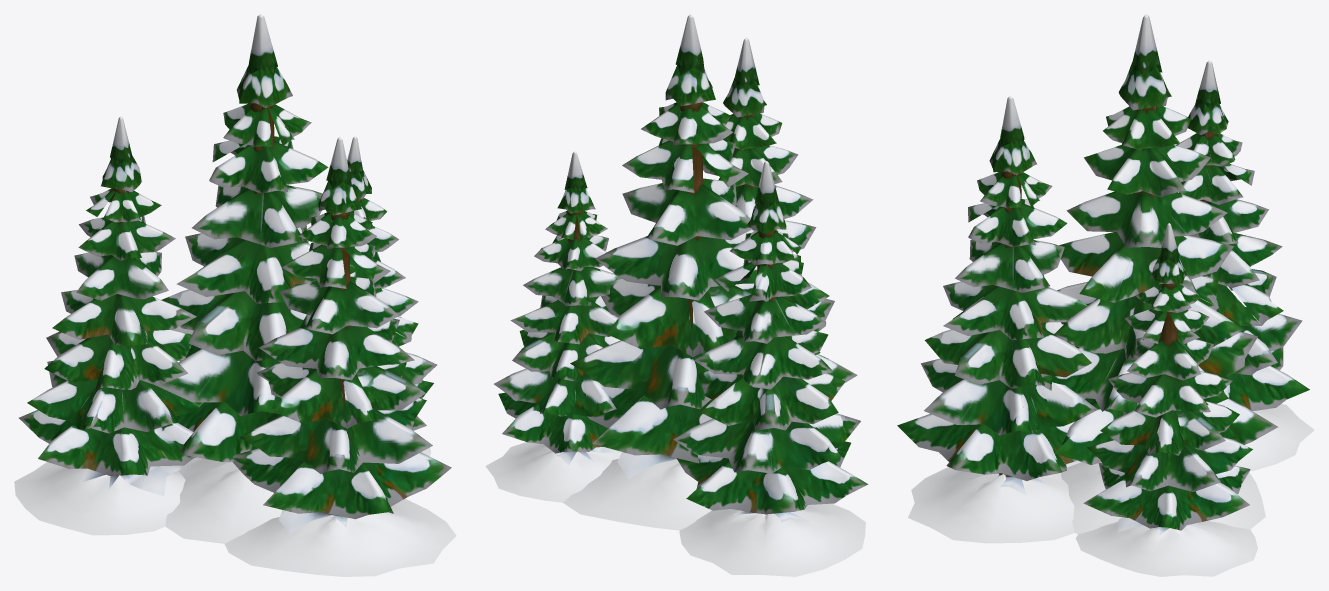
File: SKI_PROP_PineCluster_B-CgNGbAzH.glb
The picture shows the model from 3 angles, left to right: view 1: azimuth 30°, elevation 25°; view 2: azimuth 150°, elevation 25°; view 3: azimuth 270°, elevation 25°; orthographic projection.
Visible parts, largest first — view 1: SKI_PROP_PineCluster_B; view 2: SKI_PROP_PineCluster_B; view 3: SKI_PROP_PineCluster_B.
Boxes of the visible parts, x1,y1,x2,y2 form: SKI_PROP_PineCluster_B: (14,14,456,576); SKI_PROP_PineCluster_B: (485,14,868,576); SKI_PROP_PineCluster_B: (897,14,1314,576).
Bounding box in the file's own units: 5.77 × 6.8 × 5.39.
Materials: 1 (1 with a texture image).
